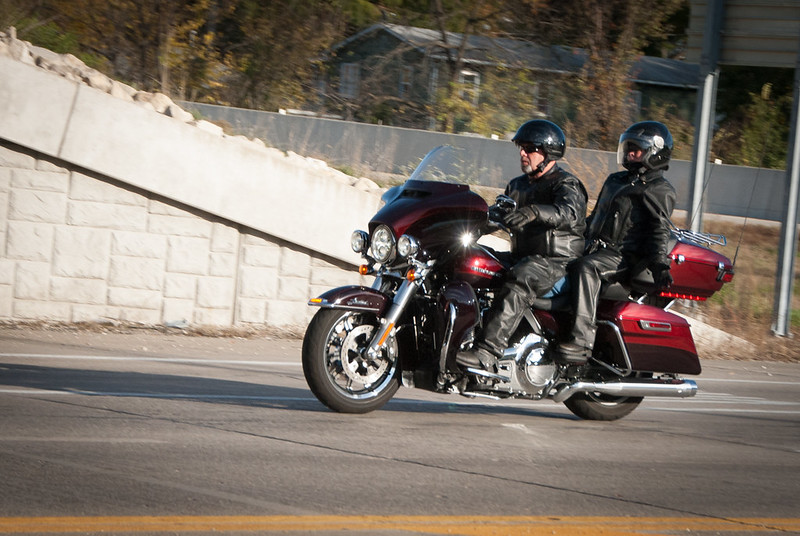helmet: (617, 123, 675, 183), (513, 117, 577, 168)
